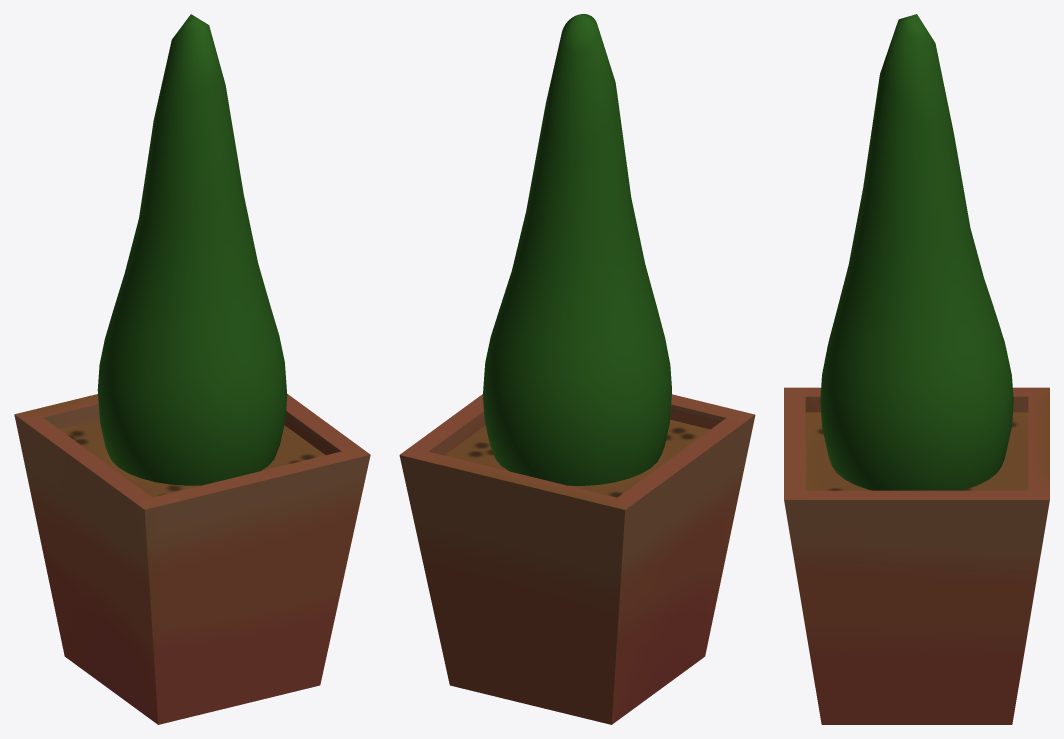
The model's file is grow.fbx.
3 renders of one model, left to right at view 1: azimuth 30°, elevation 25°; view 2: azimuth 150°, elevation 25°; view 3: azimuth 270°, elevation 25°, orthographic. The views are drawn at different scales.
Parts seen in each view (by area): view 1: Cube, Mesh; view 2: Cube, Mesh; view 3: Cube, Mesh.
Part boxes in pixels (bbox=[...]): Cube: bbox=[14, 393, 370, 724]; Mesh: bbox=[97, 14, 287, 485]; Cube: bbox=[399, 394, 755, 724]; Mesh: bbox=[483, 14, 671, 485]; Cube: bbox=[784, 387, 1049, 724]; Mesh: bbox=[820, 14, 1013, 490].
Bounding box in the file's own units: 200 × 556 × 200.
2 materials, 1 textured.
